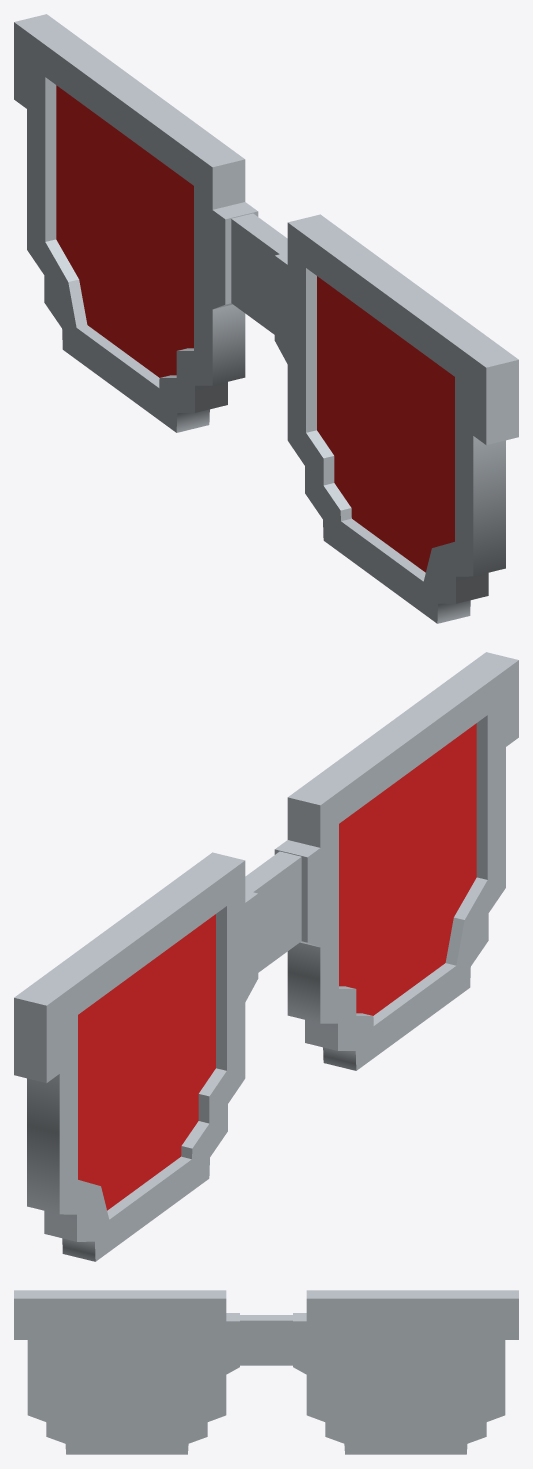
File: Square glass.FBX
3 views of the same model, one above another, from view 1: azimuth 30°, elevation 25°; view 2: azimuth 150°, elevation 25°; view 3: azimuth 270°, elevation 25° (orthographic). The views are drawn at different scales.
Parts seen in each view (by area): view 1: Box1224; view 2: Box1224; view 3: Box1224.
Boxes of the visible parts, box(x1,y1,x2,y2) form: Box1224: box(14, 14, 518, 623); Box1224: box(14, 652, 518, 1261); Box1224: box(14, 1290, 518, 1454).
Size of the model in its own units: 0.0538 by 0.4573 by 1.34.
